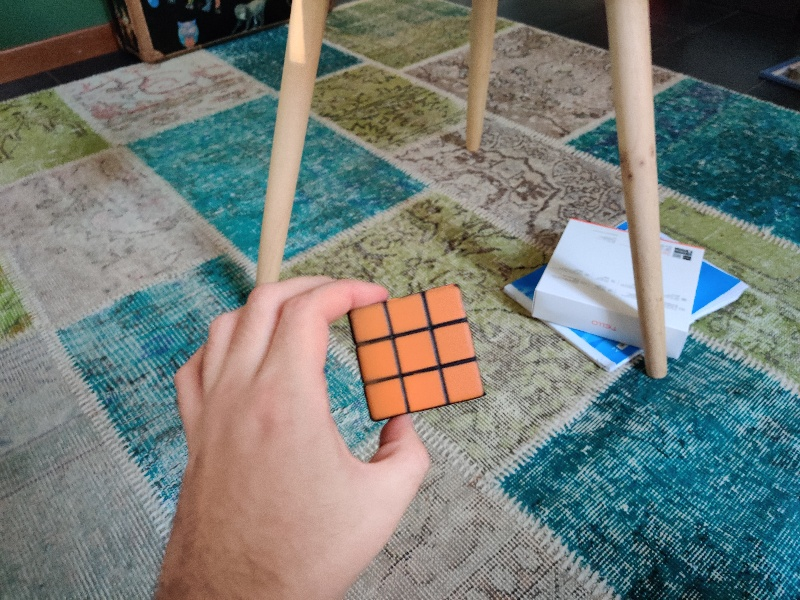rubik: (349, 286, 486, 422)
